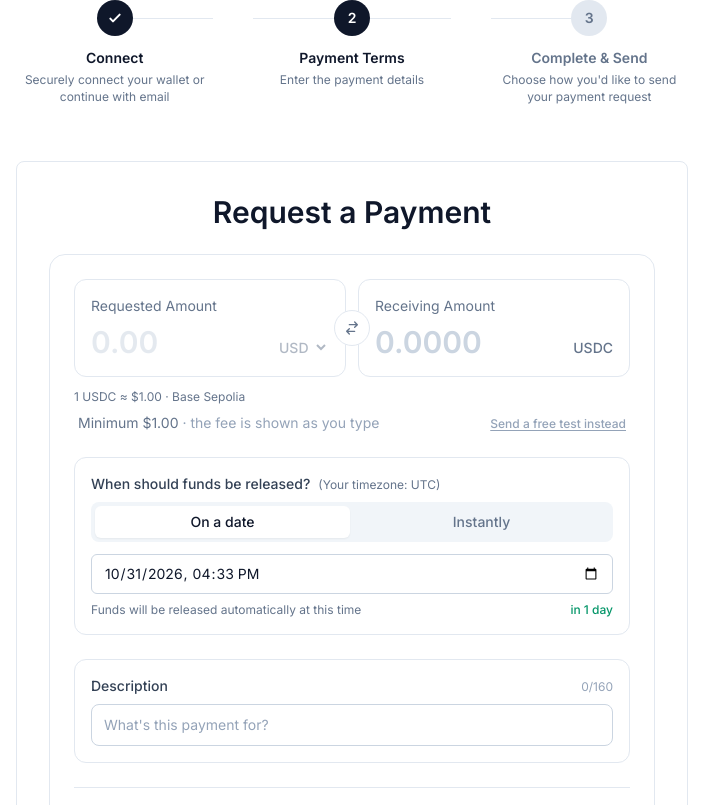
Test: CreateContractWizard - instant release › the control itself › goes back to the picker when the date option is reselected
Click the radio button labelled "Instantly". click: (482, 522)
box: [354,506,609,538]
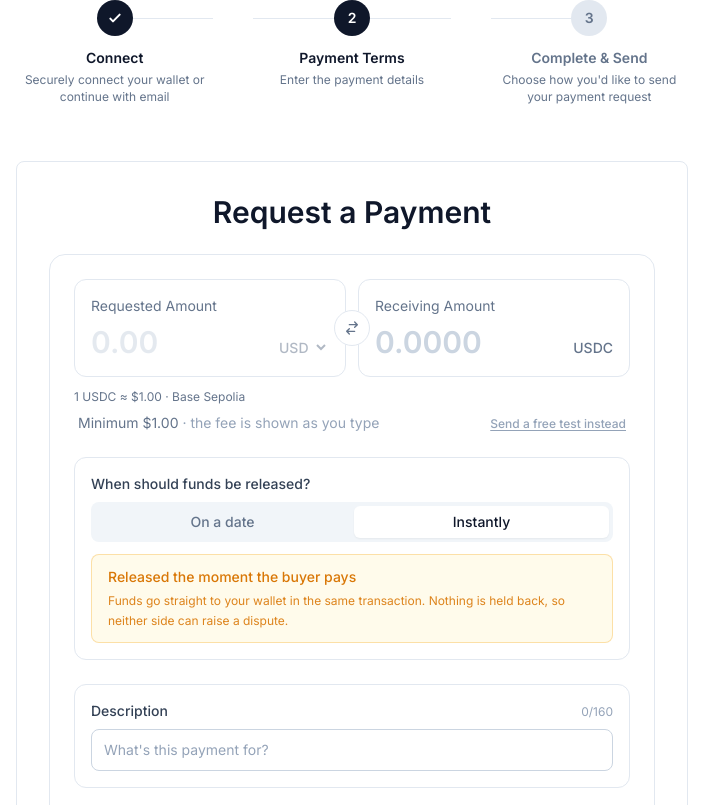
Click the radio button labelled "On a date". click: (222, 522)
box: [95,506,350,538]
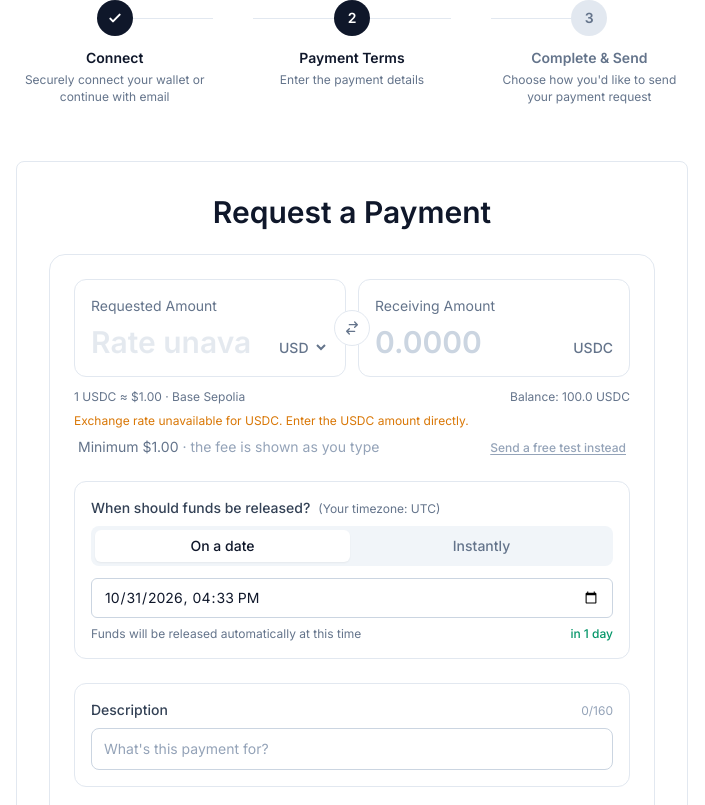
Check: the 1st field is shown, box [91,578,613,618]
